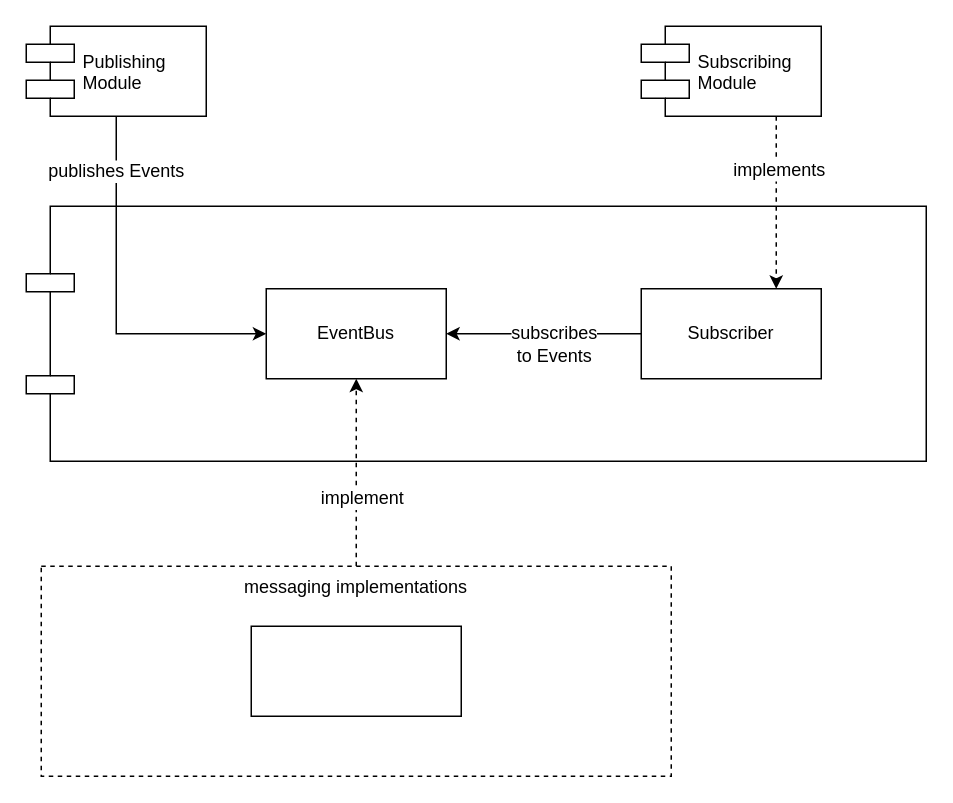
This 953x803 diagram has some shape labels left out. The box of each missing label's shape, as (x1, y1, x2, y2) in pixels:
inmemory-messaging: (250, 625, 461, 716)
messaging: (25, 205, 926, 461)
